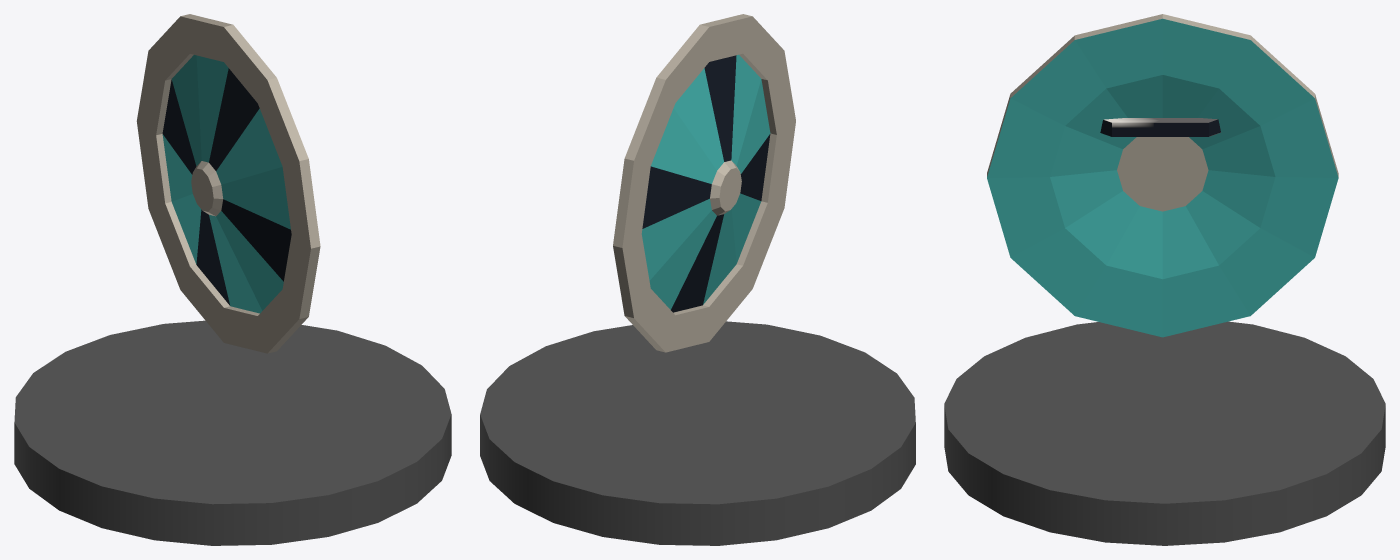
File: Shield.obj
3 views of the same model, side by side, from view 1: azimuth 30°, elevation 25°; view 2: azimuth 150°, elevation 25°; view 3: azimuth 270°, elevation 25° (orthographic).
Parts seen in each view (by area): view 1: Stand, lshield; view 2: Stand, lshield; view 3: lshield, Stand.
Boxes of the visible parts, box(x1,y1,x2,y2) form: Stand: box(14, 320, 451, 545); lshield: box(136, 14, 320, 353); Stand: box(480, 321, 915, 545); lshield: box(613, 14, 795, 352); lshield: box(987, 14, 1338, 337); Stand: box(944, 321, 1385, 545).
Bounding box in the file's own units: 14.55 × 15.81 × 14.59.
